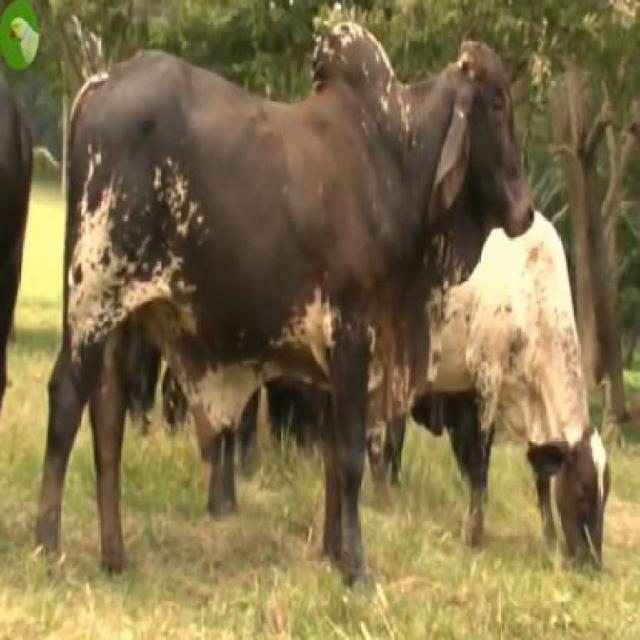Cow: (37, 18, 534, 570)
